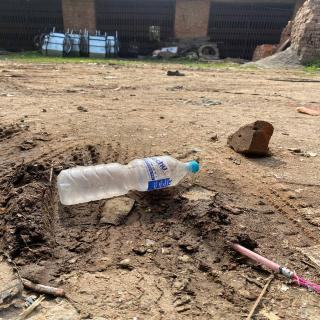Plastic-bottle: (55, 153, 203, 209)
